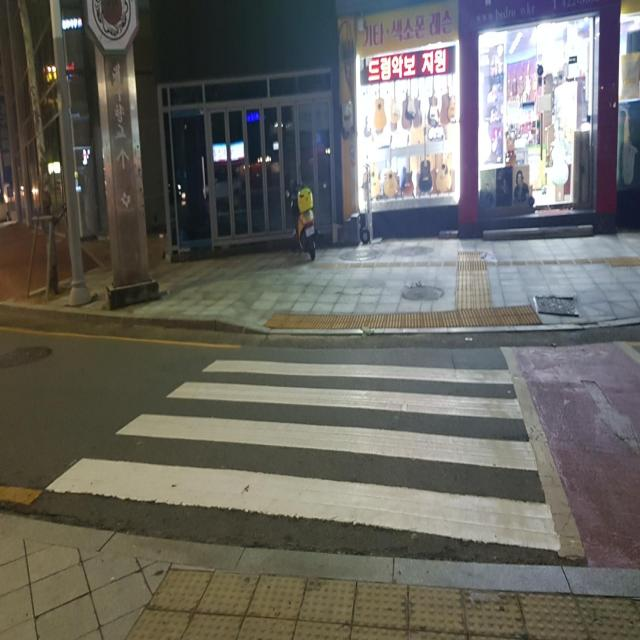횡단보도: (43, 354, 565, 556)
